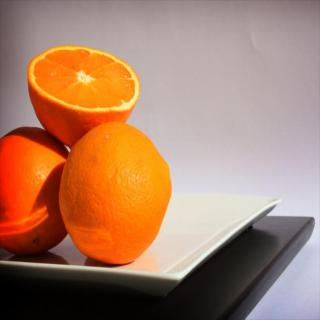Orange: (57, 122, 171, 265), (26, 44, 140, 149), (0, 124, 69, 254)
